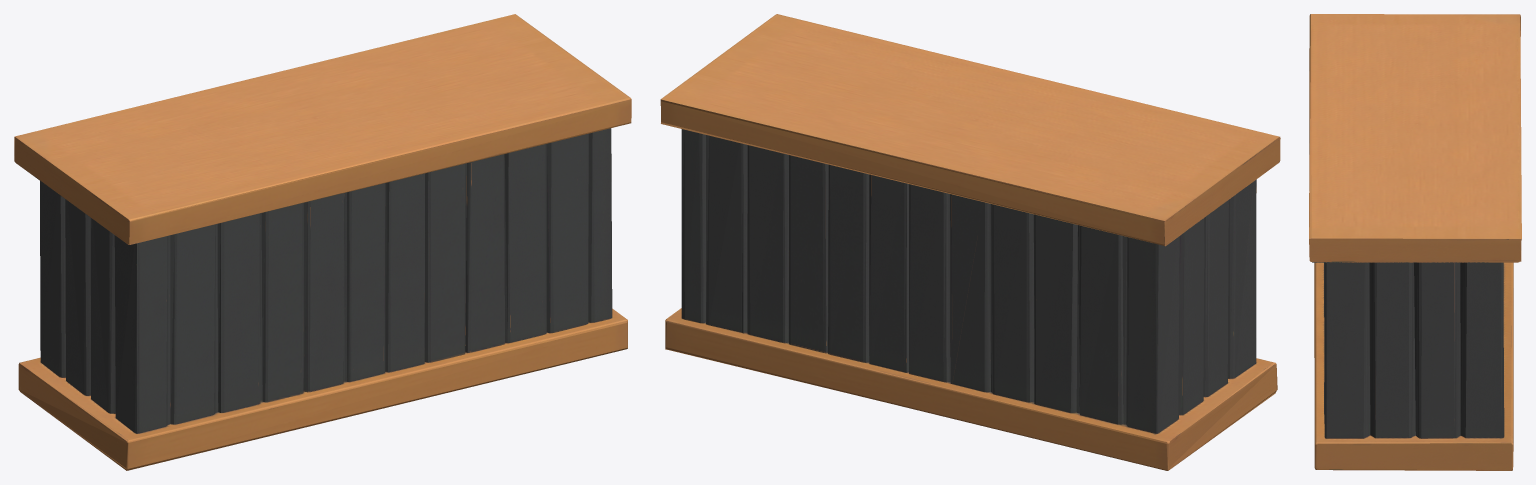
The model's file is vendor-counter.glb.
The picture shows the model from 3 angles, left to right: view 1: azimuth 30°, elevation 25°; view 2: azimuth 150°, elevation 25°; view 3: azimuth 270°, elevation 25°; orthographic projection. The views are drawn at different scales.
Size of the model in its own units: 1 by 0.4844 by 0.4014.
Materials: 1 (1 with a texture image).
